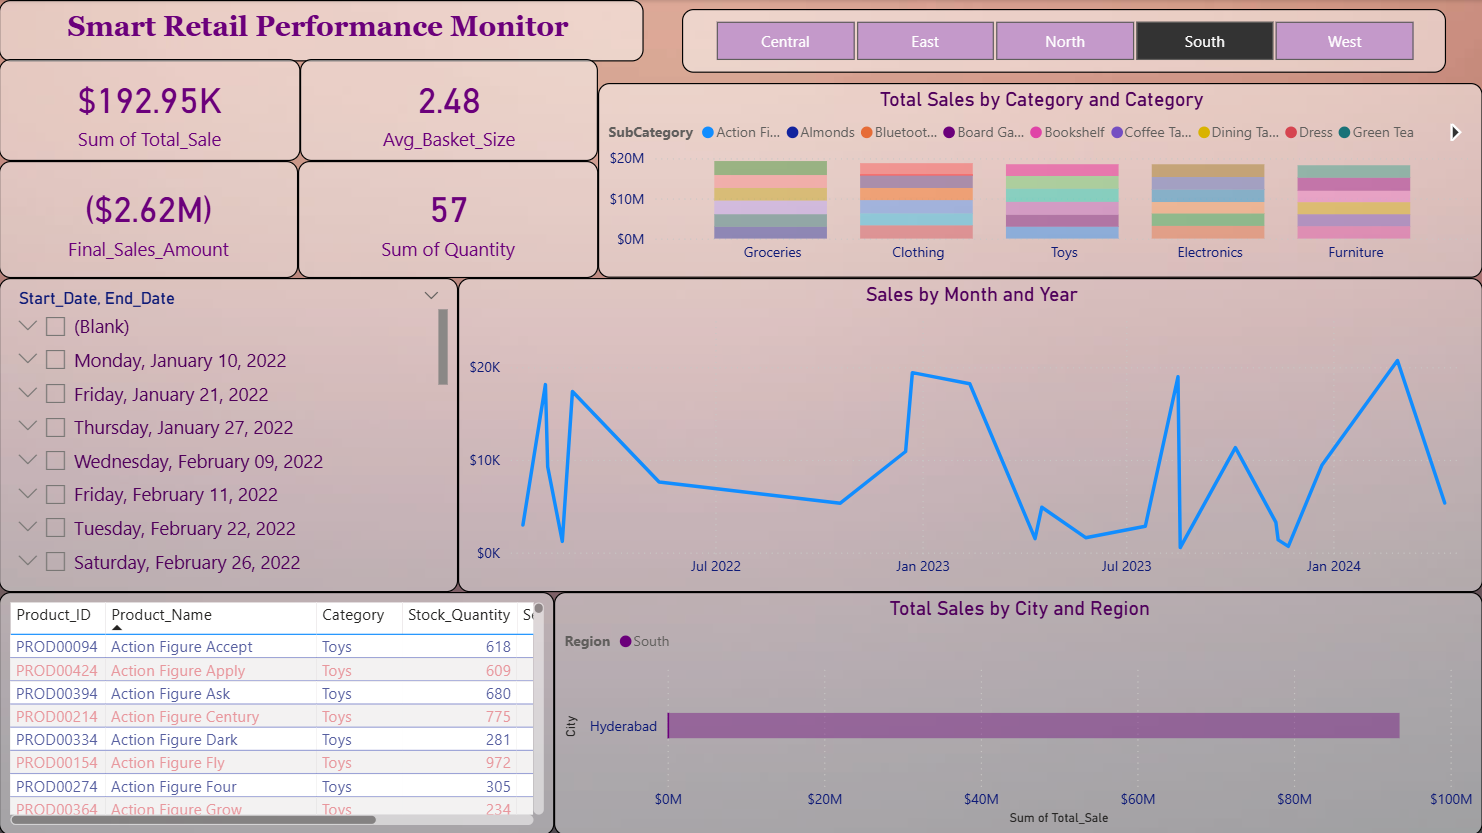

What the dashboard file says about the page in this screenshot:
{"tool":"powerbi","page":{"name":"Page 1","canvas":[1280,720],"ordinal":0},"visuals":[{"type":"textbox","box":[0,0,556.3,53.5],"z":0},{"type":"card","fields":{"Values":["Sum(sales.Total_Sale)"]},"box":[0,50.9,259.6,88],"z":1000},{"type":"card","fields":{"Values":["campaigns.Final_Sales_Amount"]},"box":[0,138.9,257.9,100.9],"z":2000},{"type":"card","fields":{"Values":["Sum(sales.Quantity)"]},"box":[257.9,138.9,258.8,100.9],"z":3000},{"type":"card","fields":{"Values":["campaigns.Avg_Basket_Size"]},"box":[259.6,50.9,257,88],"z":4000},{"type":"lineChart","title":"Sales by Month and Year","fields":{"Y":["Sum(sales.Total_Sale)"],"Category":["sales.Date.Variation.Date Hierarchy.Year","sales.Date.Variation.Date Hierarchy.Quarter","sales.Date.Variation.Date Hierarchy.Month","sales.Date.Variation.Date Hierarchy.Day"]},"box":[395.9,239.8,884.1,270.8],"z":5000},{"type":"barChart","title":" Total Sales by City and Region","fields":{"Y":["Sum(sales.Total_Sale)"],"Category":["stores.City"],"Series":["stores.Region"]},"box":[478.7,510.6,801.3,209.6],"z":6000},{"type":"columnChart","title":"Total Sales by Category and Category","fields":{"Category":["products.Category"],"Y":["Sum(sales.Total_Sale)"],"Series":["products.Subcategory"]},"box":[516.7,71.6,763.3,168.2],"z":7000},{"type":"tableEx","fields":{"Values":["products.Product_ID","products.Product_Name","products.Category","products.Stock_Quantity","products.Selling_Price","products.Cost_Price","stores.Region"]},"box":[0,510.6,478.7,209.6],"z":8000},{"type":"slicer","fields":{"Values":["campaigns.Start_Date","campaigns.End_Date"]},"box":[0,239.8,395.9,270.8],"z":9000},{"type":"slicer","fields":{"Values":["stores.Region"]},"box":[589.1,7.8,659,55.2],"z":9001}]}

Visuals, with their boxes in screenshot pixels (x1, y1, x2, y2), scaled from the page's 1280x720 canvas onto the 1482x833 screenshot:
textbox: box(0, 0, 644, 62)
card - Sum(sales.Total_Sale): box(0, 59, 301, 161)
card - campaigns.Final_Sales_Amount: box(0, 161, 299, 277)
card - Sum(sales.Quantity): box(299, 161, 598, 277)
card - campaigns.Avg_Basket_Size: box(301, 59, 598, 161)
"Sales by Month and Year" lineChart: box(458, 277, 1481, 591)
" Total Sales by City and Region" barChart: box(554, 591, 1481, 832)
"Total Sales by Category and Category" columnChart: box(598, 83, 1481, 277)
tableEx - products.Product_ID x products.Product_Name: box(0, 591, 554, 832)
slicer - campaigns.Start_Date x campaigns.End_Date: box(0, 277, 458, 591)
slicer - stores.Region: box(682, 9, 1445, 73)
